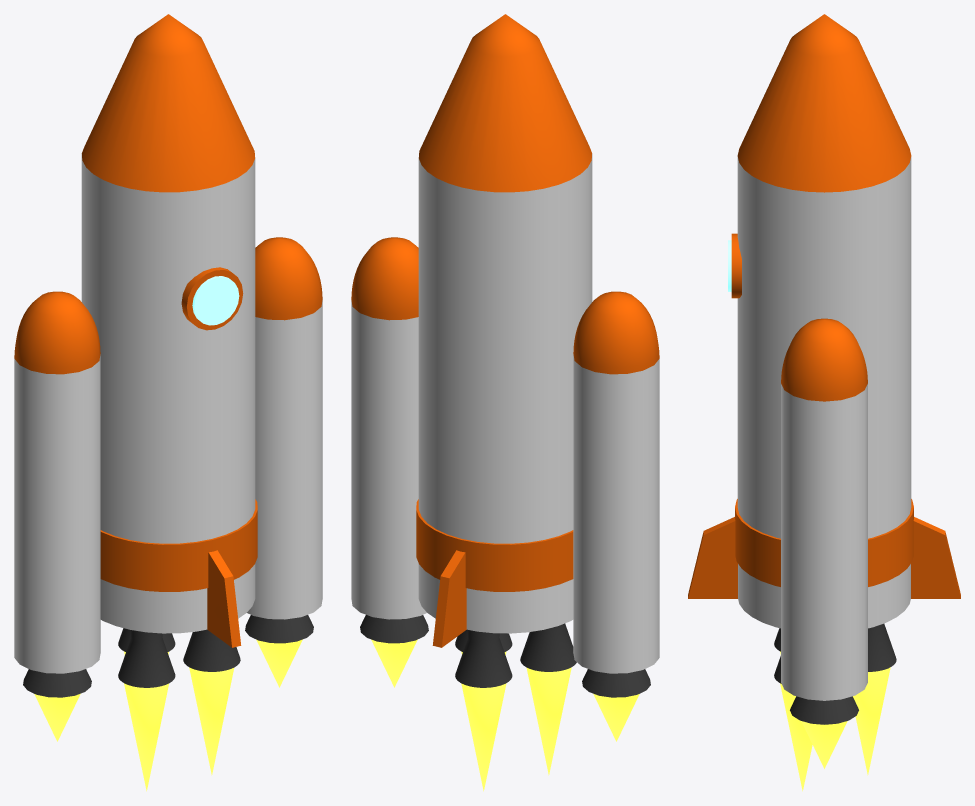
File: Rocket_20_HeavyLifter.fbx
3 views of the same model, side by side, from view 1: azimuth 30°, elevation 25°; view 2: azimuth 150°, elevation 25°; view 3: azimuth 270°, elevation 25° (orthographic).
Visible parts, largest first — view 1: R20_Body, R20_Booster_2, R20_Booster_1, R20_Nose, R20_Band_1, R20_BoosterNose_2, R20_BoosterNose_1, R20_Nozzle_2, R20_Fin_3, R20_Flame_2, R20_Flame_3, R20_Window_1 (+6 smaller); view 2: R20_Body, R20_Booster_2, R20_Booster_1, R20_Nose, R20_Band_1, R20_BoosterNose_2, R20_BoosterNose_1, R20_Nozzle_1, R20_Fin_1, R20_Flame_1, R20_Flame_2, R20_Nozzle_2 (+4 smaller); view 3: R20_Body, R20_Booster_1, R20_Nose, R20_BoosterNose_1, R20_Band_1, R20_Fin_1, R20_Fin_3, R20_Flame_1, R20_BoosterNozzle_1, R20_Flame_3, R20_Nozzle_1, R20_BoosterFlame_1 (+1 smaller).
Boxes of the visible parts, x1=… form: R20_Body: x1=81, y1=154, x2=255, y2=633; R20_Booster_2: x1=14, y1=354, x2=100, y2=673; R20_Booster_1: x1=247, y1=300, x2=322, y2=619; R20_Nose: x1=81, y1=14, x2=255, y2=192; R20_Band_1: x1=100, y1=499, x2=257, y2=591; R20_BoosterNose_2: x1=14, y1=291, x2=100, y2=374; R20_BoosterNose_1: x1=255, y1=237, x2=322, y2=320; R20_Nozzle_2: x1=118, y1=630, x2=175, y2=687; R20_Fin_3: x1=207, y1=550, x2=241, y2=647; R20_Flame_2: x1=124, y1=683, x2=168, y2=791; R20_Flame_3: x1=189, y1=667, x2=234, y2=775; R20_Window_1: x1=192, y1=276, x2=239, y2=325; R20_Body: x1=418, y1=154, x2=592, y2=633; R20_Booster_2: x1=573, y1=354, x2=659, y2=673; R20_Booster_1: x1=351, y1=300, x2=426, y2=619; R20_Nose: x1=418, y1=14, x2=592, y2=192; R20_Band_1: x1=416, y1=499, x2=573, y2=591; R20_BoosterNose_2: x1=573, y1=291, x2=659, y2=374; R20_BoosterNose_1: x1=351, y1=237, x2=418, y2=320; R20_Nozzle_1: x1=455, y1=629, x2=512, y2=687; R20_Fin_1: x1=432, y1=550, x2=466, y2=647; R20_Flame_1: x1=461, y1=683, x2=506, y2=791; R20_Flame_2: x1=526, y1=667, x2=571, y2=775; R20_Nozzle_2: x1=520, y1=623, x2=576, y2=671; R20_Body: x1=737, y1=157, x2=911, y2=628; R20_Booster_1: x1=781, y1=384, x2=867, y2=700; R20_Nose: x1=737, y1=14, x2=911, y2=192; R20_BoosterNose_1: x1=781, y1=318, x2=867, y2=401; R20_Band_1: x1=735, y1=499, x2=913, y2=586; R20_Fin_1: x1=911, y1=517, x2=960, y2=598; R20_Fin_3: x1=688, y1=517, x2=737, y2=598; R20_Flame_1: x1=853, y1=667, x2=890, y2=775; R20_BoosterNozzle_1: x1=790, y1=696, x2=858, y2=724; R20_Flame_3: x1=780, y1=683, x2=812, y2=791; R20_Nozzle_1: x1=868, y1=623, x2=896, y2=671; R20_BoosterFlame_1: x1=801, y1=721, x2=847, y2=768.
Size of the model in its own units: 3.95 by 9.67 by 3.14.
